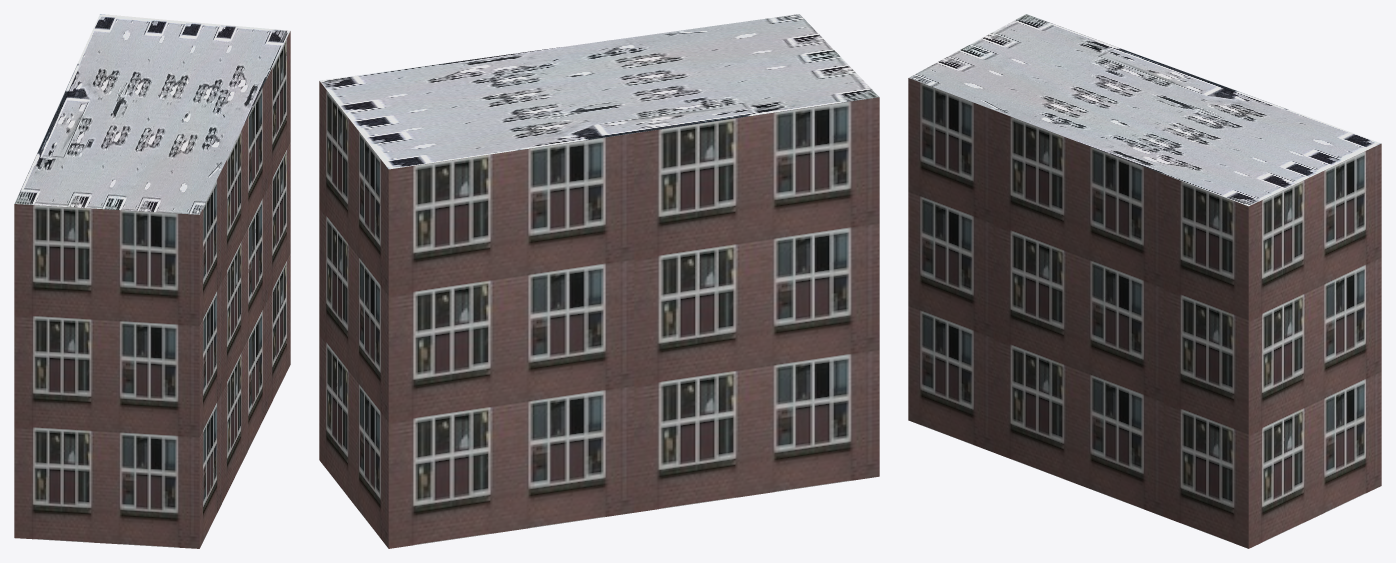
Rendered from ResTex__148.fbx.
3 views of the same model, side by side, from view 1: azimuth 30°, elevation 25°; view 2: azimuth 150°, elevation 25°; view 3: azimuth 270°, elevation 25° (orthographic). The views are drawn at different scales.
Parts seen in each view (by area): view 1: CityEngineMaterial_12_m, CityEngineMaterial_8_m; view 2: CityEngineMaterial_12_m, CityEngineMaterial_8_m; view 3: CityEngineMaterial_12_m, CityEngineMaterial_8_m.
Boxes of the visible parts, box(x1,y1,x2,y2) form: CityEngineMaterial_12_m: box(14, 31, 290, 548); CityEngineMaterial_8_m: box(14, 14, 290, 214); CityEngineMaterial_12_m: box(319, 81, 879, 548); CityEngineMaterial_8_m: box(319, 14, 879, 169); CityEngineMaterial_12_m: box(908, 78, 1381, 548); CityEngineMaterial_8_m: box(909, 14, 1380, 206).
Size of the model in its own units: 10.84 by 9 by 11.26.
Materials: 2 (2 with a texture image).
